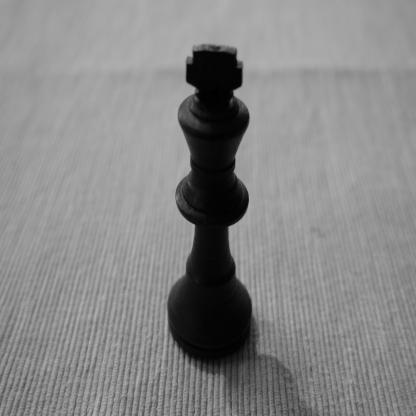black-king: (166, 41, 253, 363)
